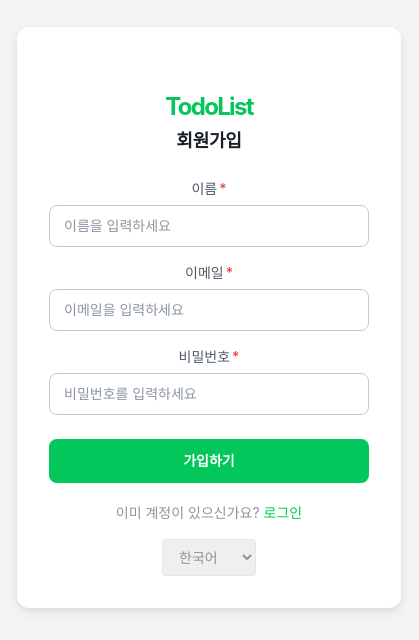
Scenario: RegisterPage › 폼 유효성 검사 › 이름 빈 상태로 제출 시 이름 에러 메시지를 표시한다
Type "a@b.com" into the field with placeholder "이메일을 입력하세요" at (209, 310), box [49, 288, 369, 330]
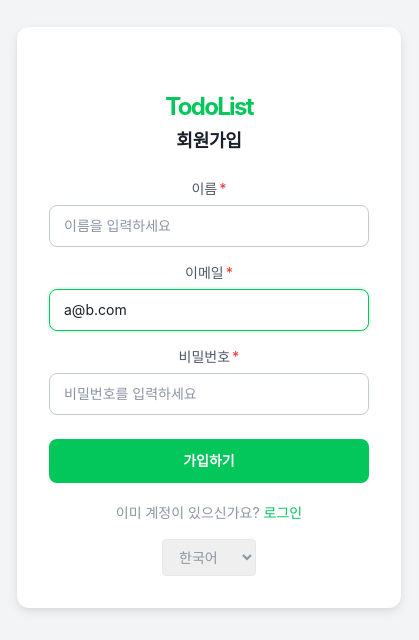
Type "pw" into the password field with placeholder "비밀번호를 입력하세요" at (209, 394), box [49, 372, 369, 414]
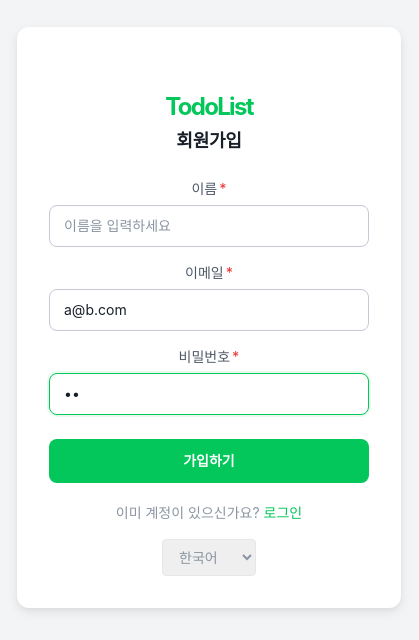
Click the button "가입하기" at (209, 460), box [49, 438, 369, 482]
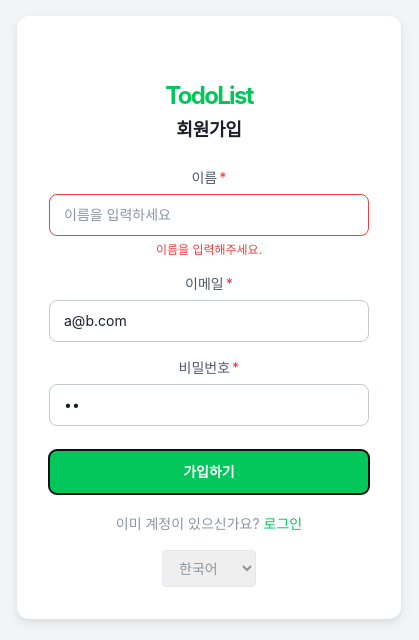
Expected: the text "이름을 입력해주세요." is shown, [156, 242, 262, 256]
